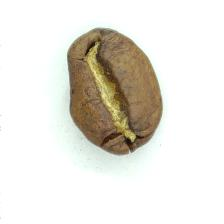NG: (60, 40, 143, 149)
